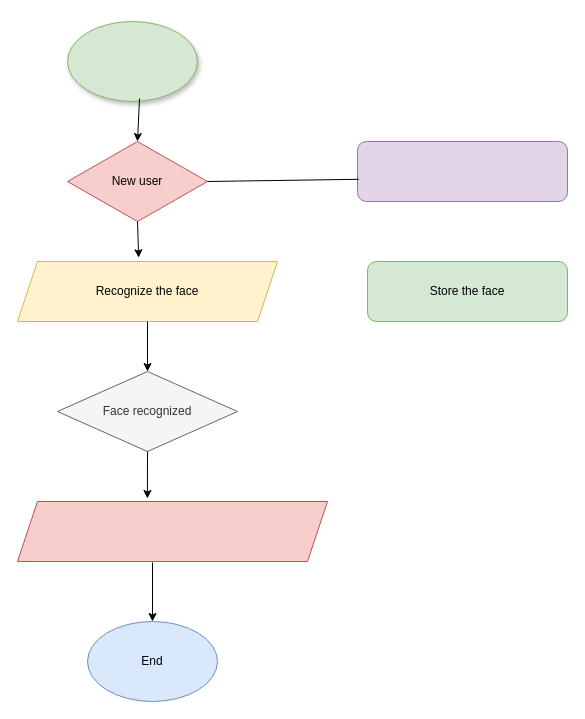
Image size: 585x719. Some labels were removed from this diagram. The centre of each missing label's shape, as x and y in pixels:
"Give ur photograph" belongs at (462,171).
"Start" belongs at (133,62).
"Stored in csv file" belongs at (172,531).
